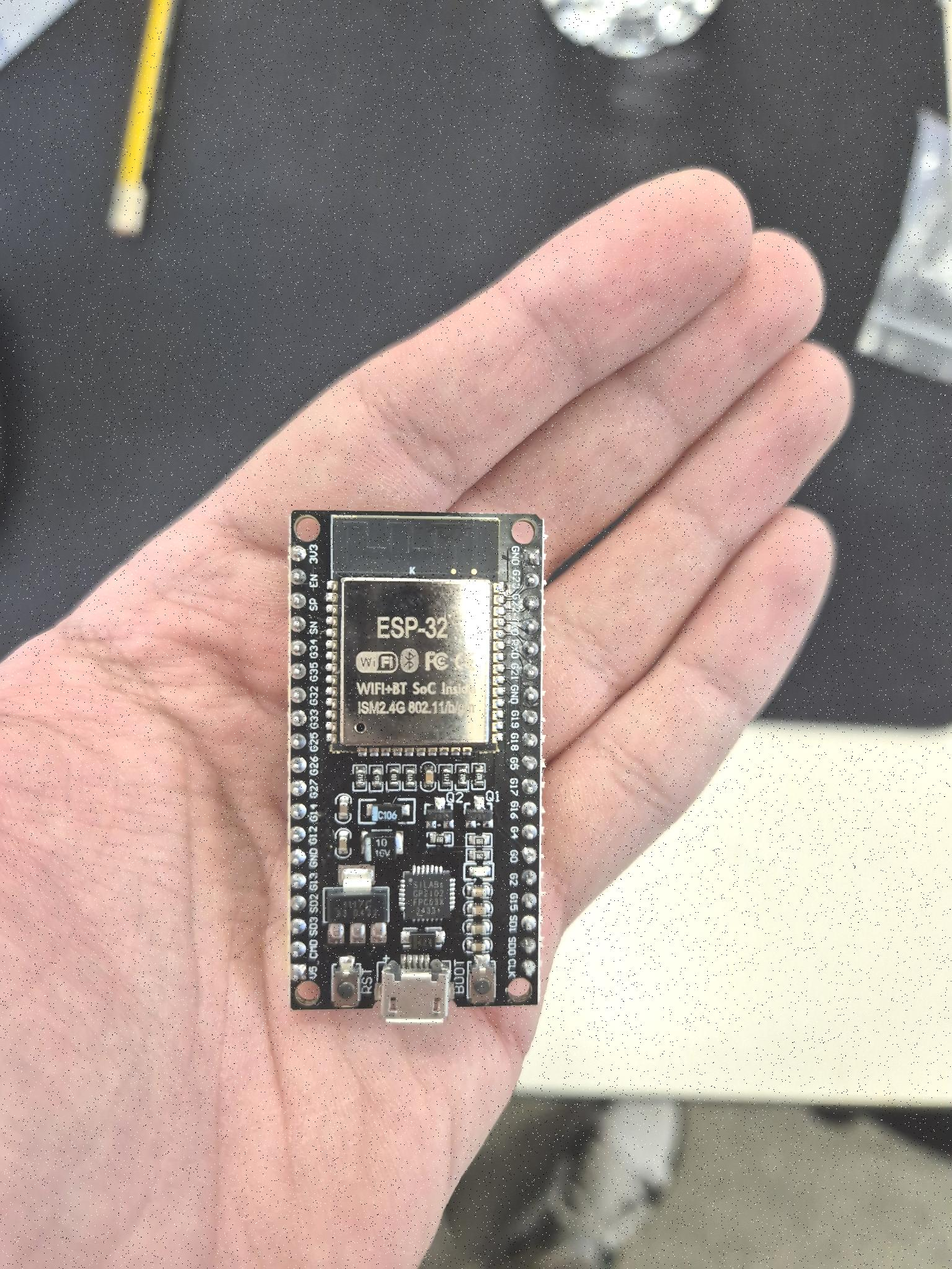esp32-dev: (290, 511, 543, 1007)
